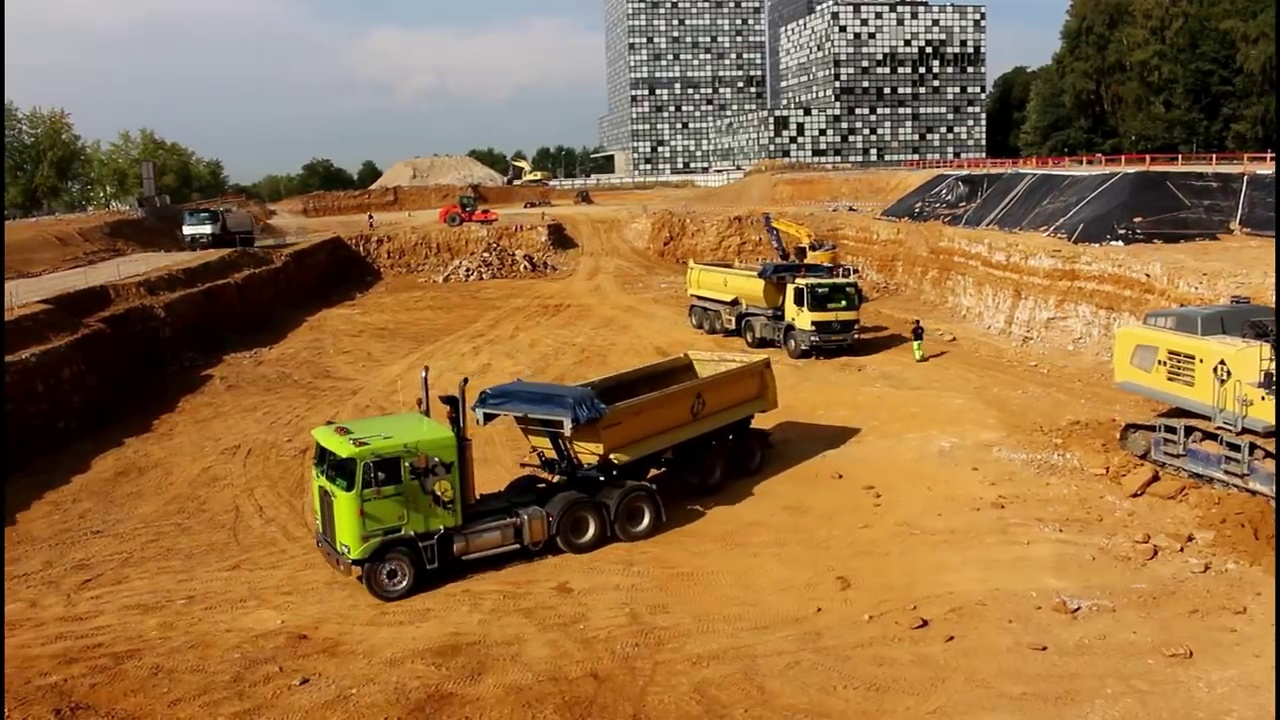compactor: (434, 192, 502, 228)
excavator: (1102, 289, 1280, 497), (761, 209, 851, 316), (500, 152, 551, 192)
truck: (306, 351, 785, 609), (681, 257, 867, 362), (177, 205, 261, 250)
worker: (905, 314, 931, 367), (361, 207, 379, 236)
